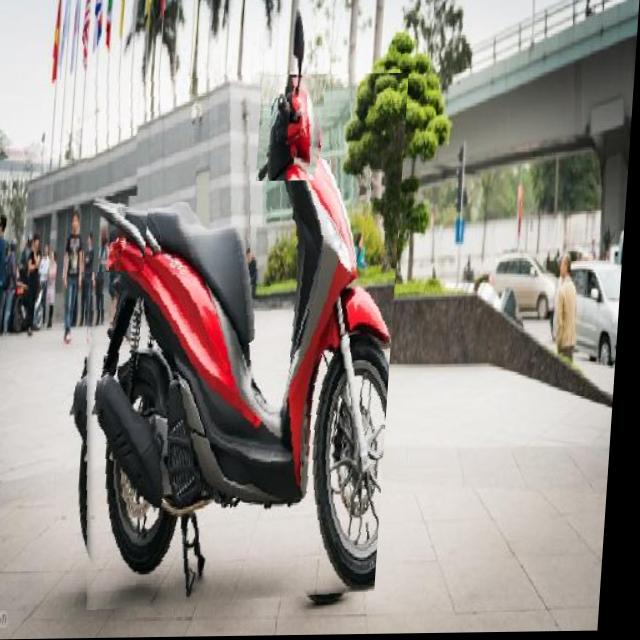All: (60, 74, 410, 611)
Head: (258, 76, 328, 182)
Tail: (84, 197, 152, 273)
